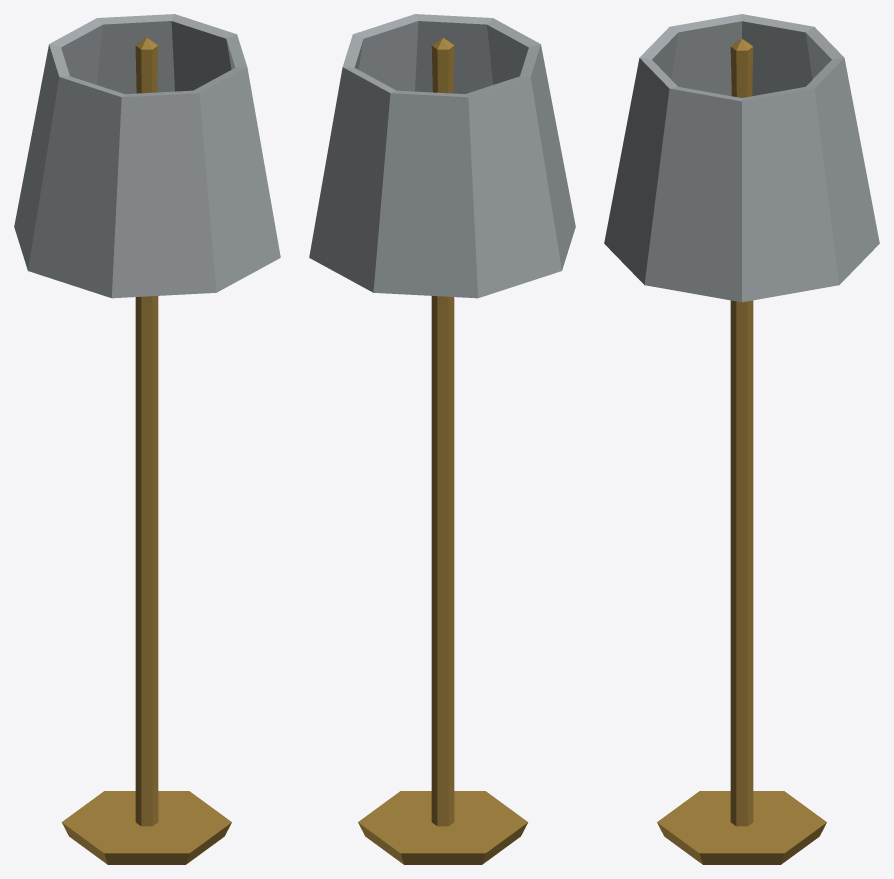
The model's file is Lamp.fbx.
The picture shows the model from 3 angles, left to right: view 1: azimuth 30°, elevation 25°; view 2: azimuth 150°, elevation 25°; view 3: azimuth 270°, elevation 25°; orthographic projection.
Parts seen in each view (by area): view 1: lamp; view 2: lamp; view 3: lamp.
Part boxes in pixels (left/top/right/bottom): lamp: left=14, top=14, right=280, bottom=864; lamp: left=309, top=14, right=575, bottom=864; lamp: left=604, top=14, right=879, bottom=864.
Size of the model in its own units: 47.86 by 153 by 47.86.
